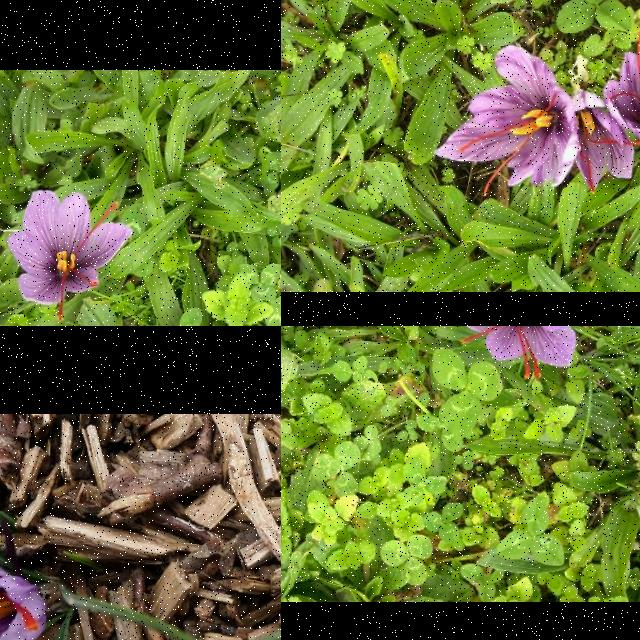flower: (434, 46, 580, 196), (8, 191, 132, 321), (451, 326, 576, 380), (572, 90, 634, 192), (602, 31, 640, 143), (0, 560, 45, 640)
